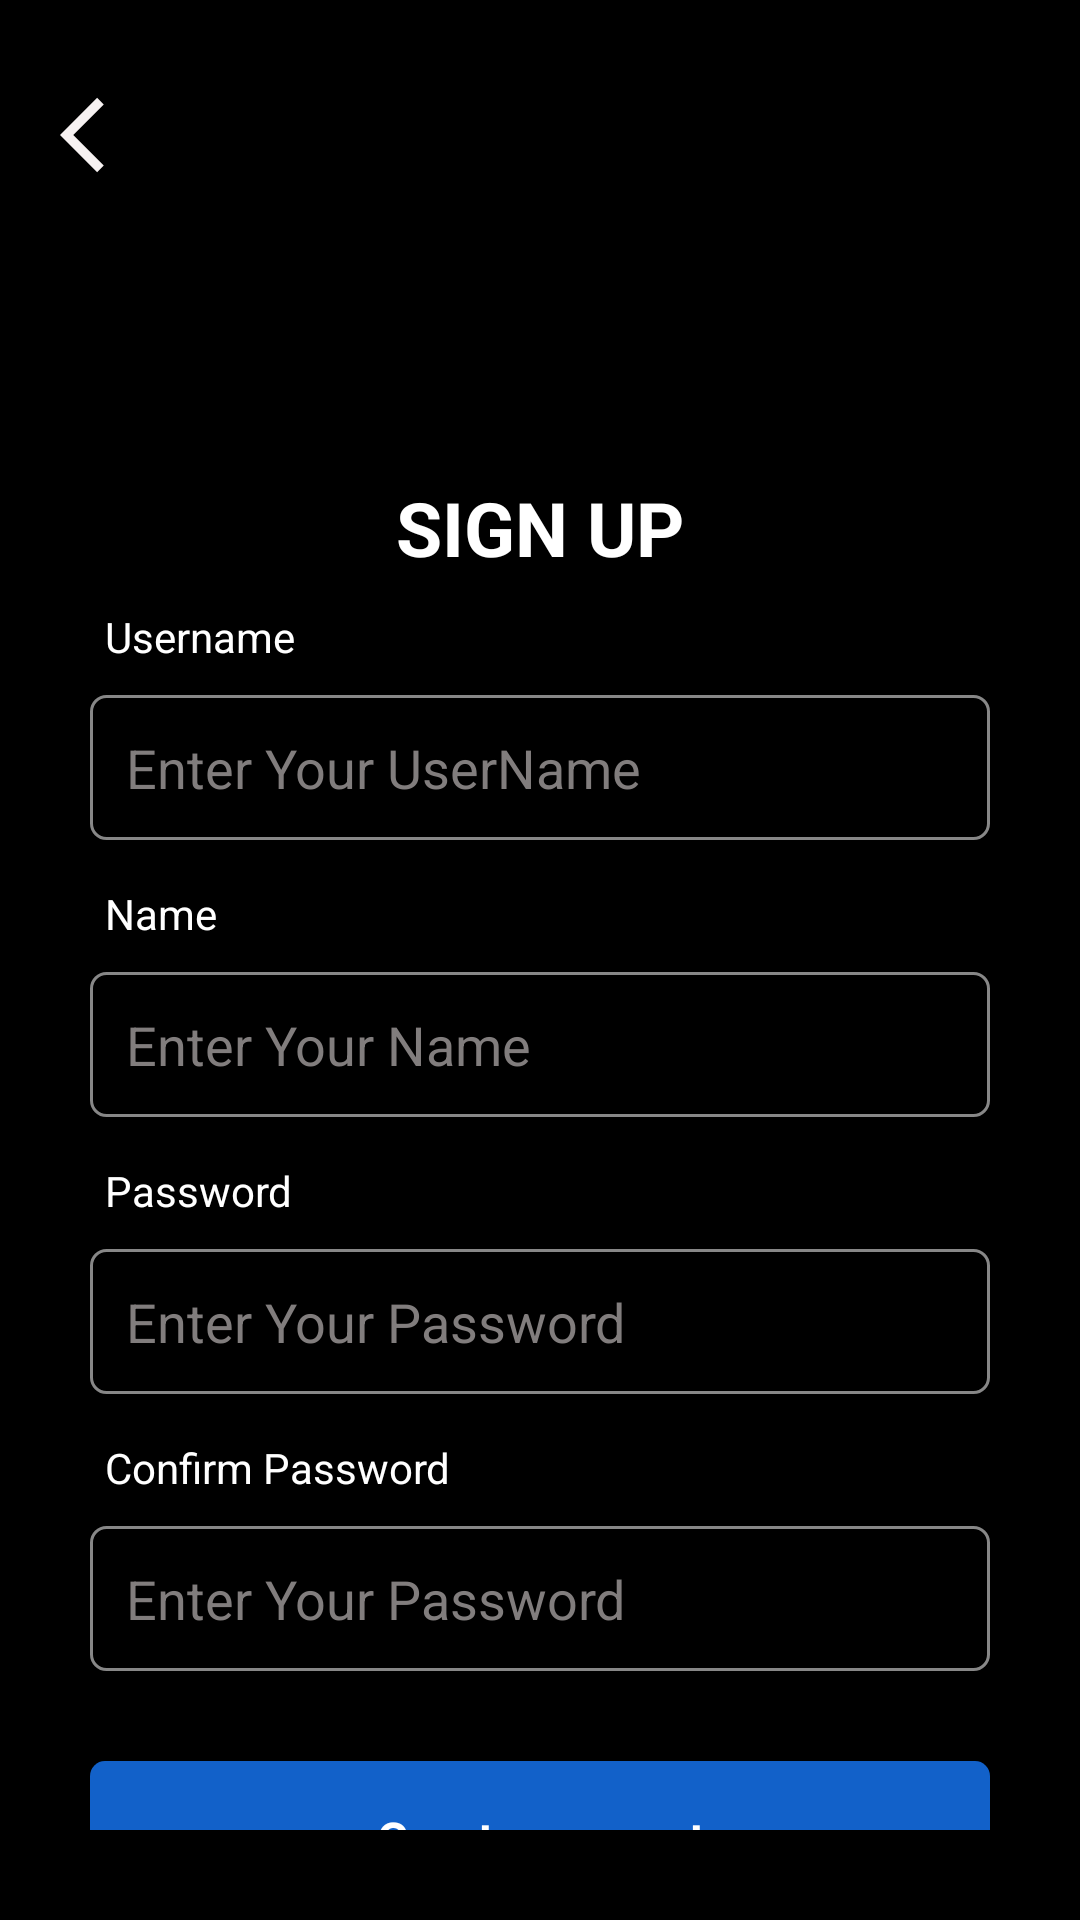

Icon bounding boxes for this 1080*1920 phone screenshot, format (x1, y1, x2, y2):
back: (60, 98, 104, 172)
